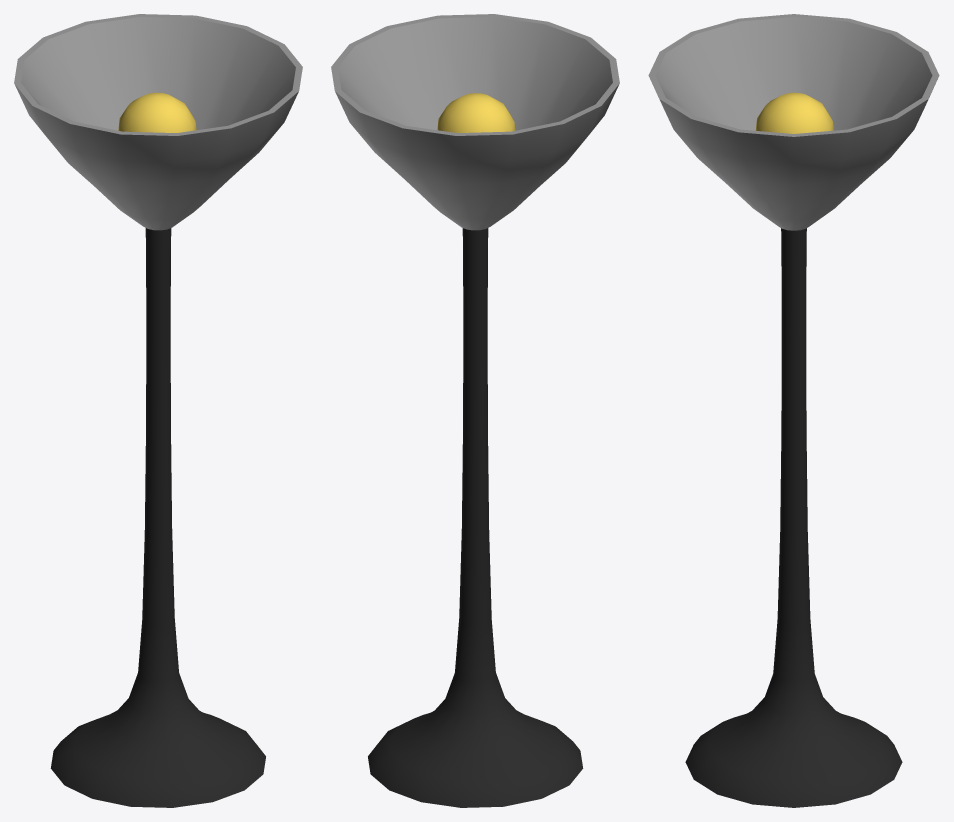
Rendered from Stehlampe.FBX.
3 renders of one model, left to right at view 1: azimuth 30°, elevation 25°; view 2: azimuth 150°, elevation 25°; view 3: azimuth 270°, elevation 25°, orthographic.
Visible parts, largest first — view 1: Line001; view 2: Line001; view 3: Line001.
Boxes of the visible parts, bbox=[...] form: Line001: bbox=[14, 14, 302, 807]; Line001: bbox=[331, 14, 619, 807]; Line001: bbox=[648, 14, 939, 807].
Size of the model in its own units: 75.2 by 196 by 75.2.
